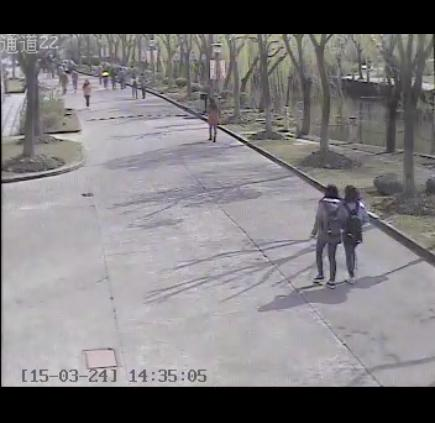person: (338, 181, 371, 286), (309, 181, 341, 288), (203, 94, 224, 144), (80, 75, 95, 109), (138, 70, 150, 101)
